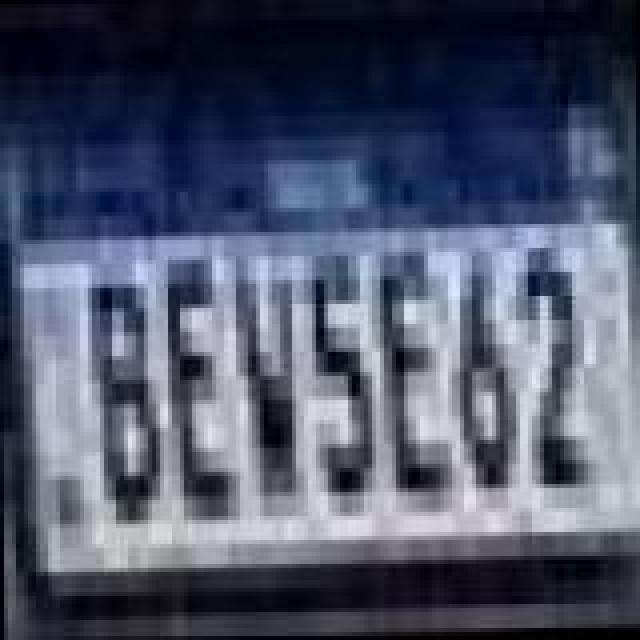2: (516, 240, 600, 500)
5: (310, 258, 382, 518)
6: (446, 242, 518, 502)
B: (84, 272, 168, 532)
E: (376, 244, 460, 504), (162, 262, 242, 522)
W: (230, 258, 302, 518)
